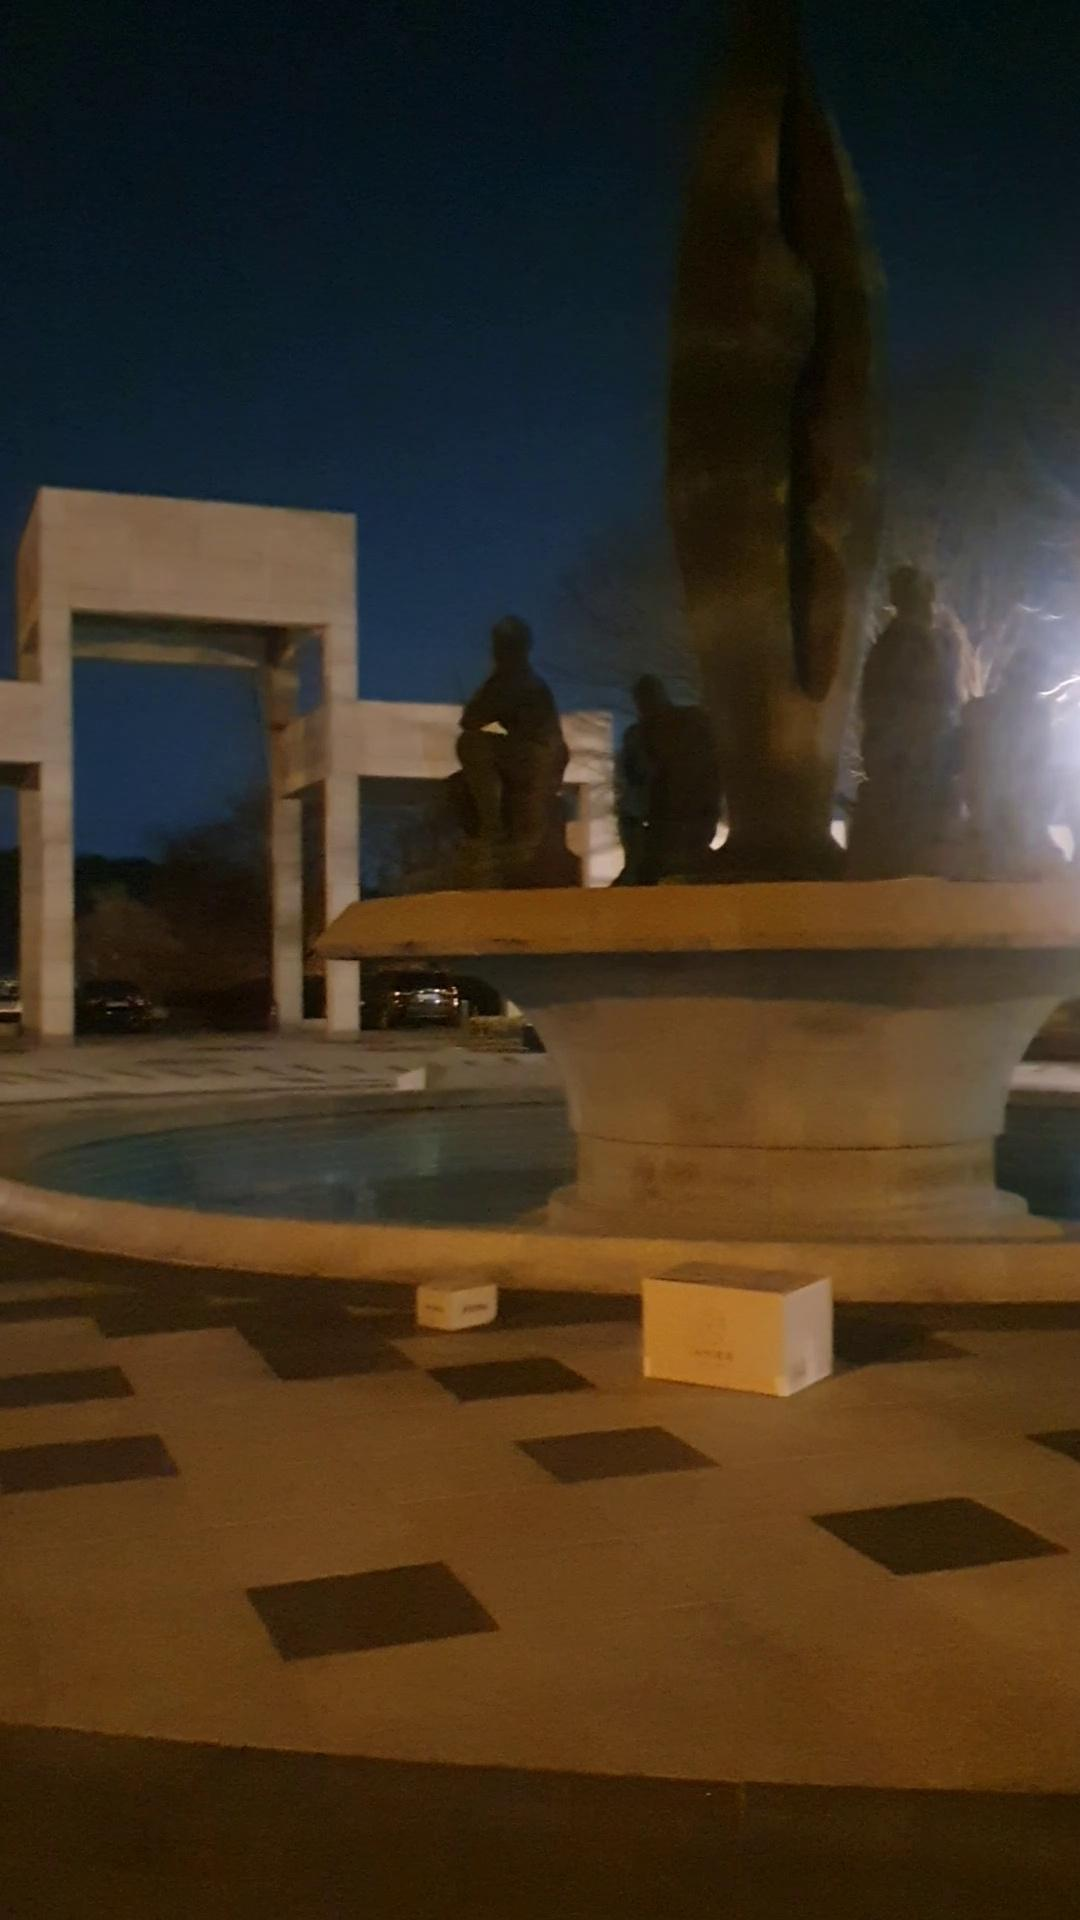Box: (636, 1255, 845, 1400), (418, 1258, 516, 1342)
